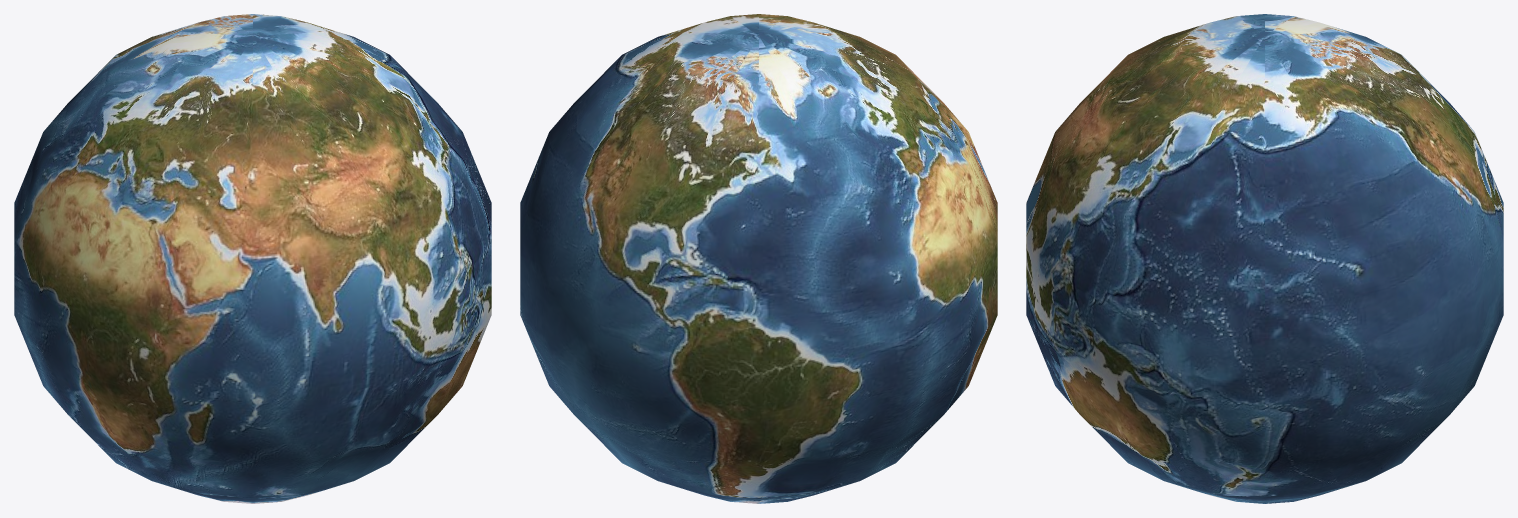
Rendered from EARTH.obj.
3 views of the same model, side by side, from view 1: azimuth 30°, elevation 25°; view 2: azimuth 150°, elevation 25°; view 3: azimuth 270°, elevation 25° (orthographic).
Visible parts, largest first — view 1: Sphere; view 2: Sphere; view 3: Sphere.
Boxes of the visible parts, x1,y1,x2,y2 form: Sphere: [14, 14, 491, 503]; Sphere: [520, 14, 997, 503]; Sphere: [1026, 14, 1503, 503].
Size of the model in its own units: 9.85 by 10 by 9.7.
1 material, 1 textured.
